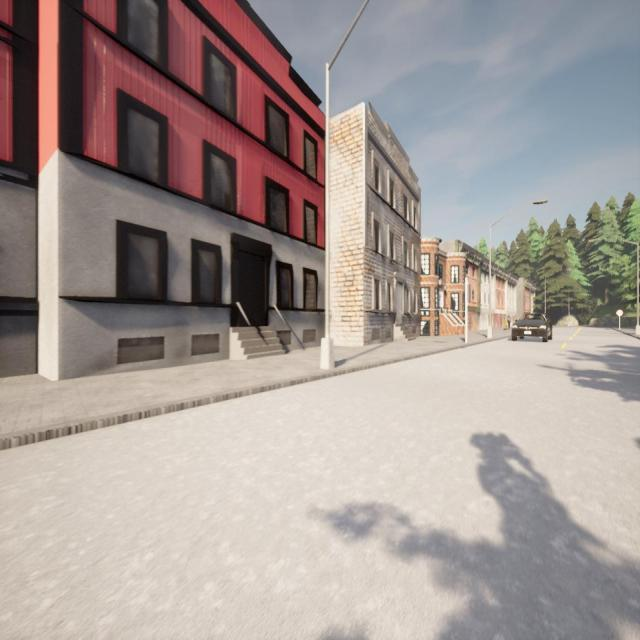Pedestrian: (507, 314, 511, 329), (504, 321, 508, 332)
Traffic_Signs: (616, 310, 624, 317)
Vehicle: (512, 313, 552, 342)
traffic_light: (464, 284, 470, 302)
